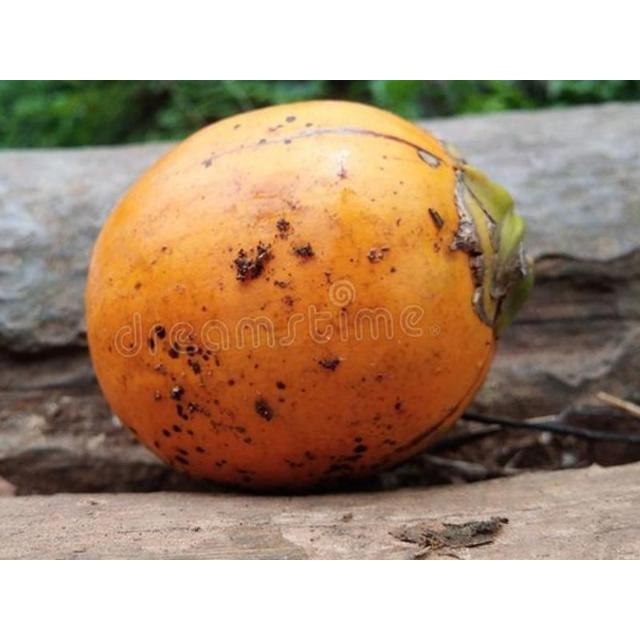good: (83, 101, 532, 496)
